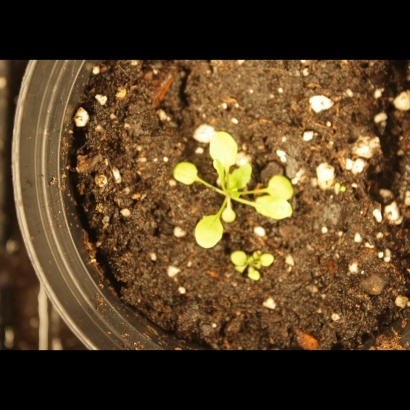leaf: (199, 123, 240, 173), (251, 189, 299, 231), (164, 151, 201, 198), (192, 211, 227, 251), (228, 161, 265, 193), (268, 171, 305, 201), (216, 201, 241, 225), (259, 247, 282, 270), (226, 247, 249, 270), (244, 269, 267, 292)
